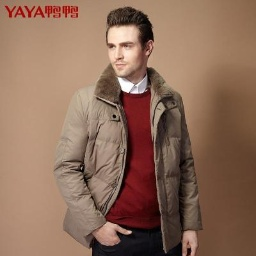face: (102, 8, 161, 80)
